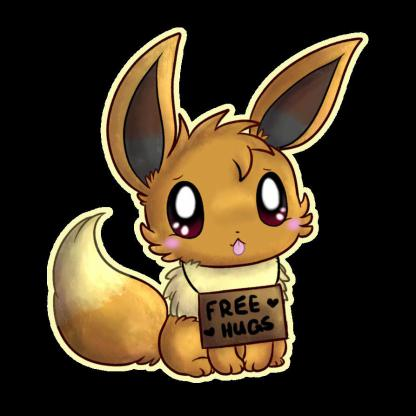Eevee: (1, 1, 416, 399)
